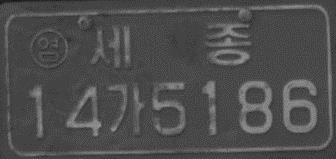1: (196, 78, 225, 137), (25, 83, 52, 142)
4: (65, 84, 103, 137)
5: (151, 79, 188, 137)
6: (281, 77, 320, 134)
8: (235, 79, 274, 134)
가: (106, 81, 146, 136)
세종_D: (88, 19, 253, 71)
영: (30, 28, 70, 71)
